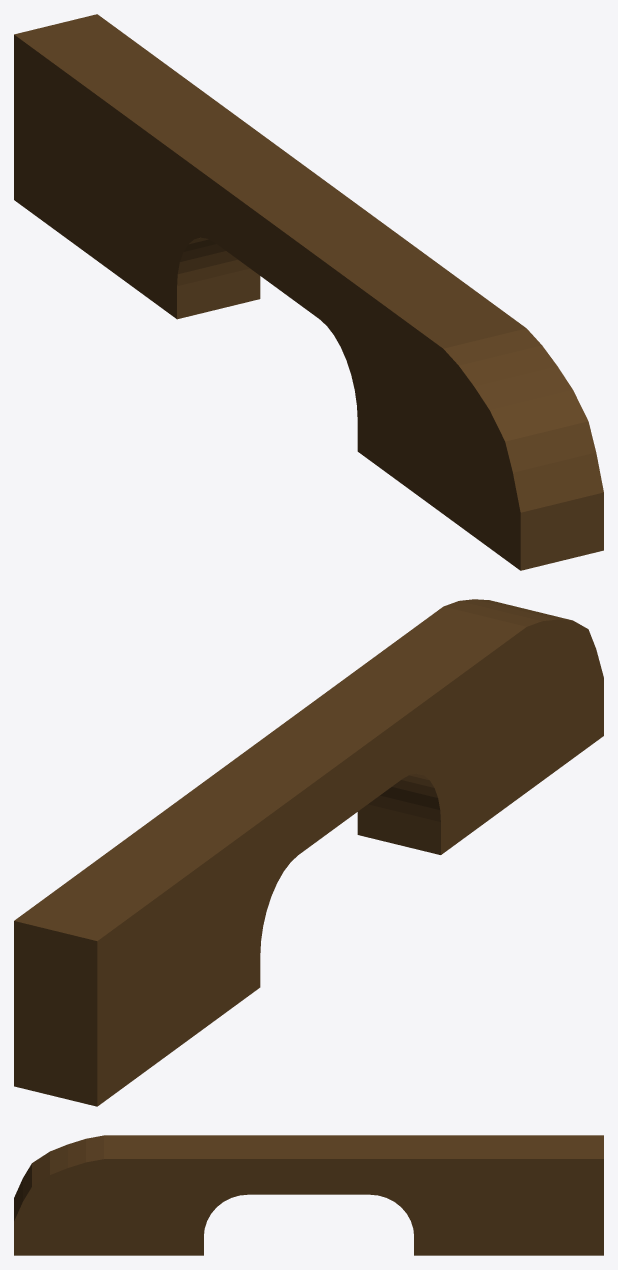
Rendered from Sidewall.glb.
The picture shows the model from 3 angles, top to bottom: view 1: azimuth 30°, elevation 25°; view 2: azimuth 150°, elevation 25°; view 3: azimuth 270°, elevation 25°; orthographic projection. The views are drawn at different scales.
Visible parts, largest first — view 1: Cube.003; view 2: Cube.003; view 3: Cube.003.
Part boxes in pixels (box(x1,y1,x2,y2)): Cube.003: box(14, 14, 603, 570); Cube.003: box(14, 599, 603, 1106); Cube.003: box(14, 1135, 603, 1255).
Size of the model in its own units: 1.9 by 3.61 by 20.
